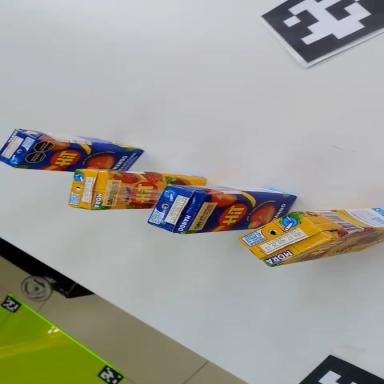HIT-MANGO: (148, 183, 297, 240), (0, 127, 144, 185)
HIT-MORA: (236, 197, 384, 271), (69, 169, 206, 211)
cara_F: (180, 187, 298, 234), (16, 138, 144, 181), (100, 171, 206, 216), (267, 227, 384, 267)
